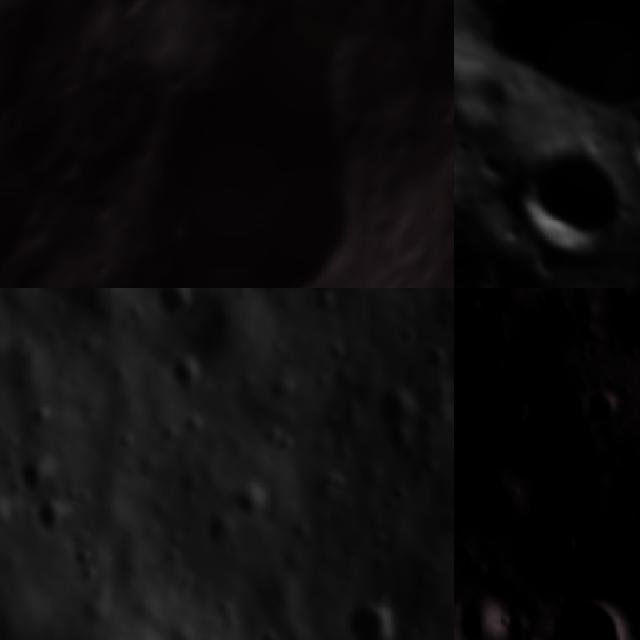crater: (74, 0, 454, 288), (489, 116, 640, 287), (0, 161, 59, 276), (21, 123, 96, 198), (533, 589, 635, 640), (459, 473, 528, 540), (530, 516, 585, 572), (337, 590, 397, 640), (88, 0, 163, 36), (579, 384, 631, 434), (454, 594, 510, 640), (226, 478, 272, 531), (373, 380, 420, 429), (454, 288, 546, 313), (544, 384, 583, 437), (100, 31, 146, 74), (164, 354, 206, 401), (32, 494, 75, 538), (616, 111, 640, 189), (15, 454, 48, 508), (285, 288, 358, 307), (147, 288, 193, 317), (253, 620, 276, 640), (252, 288, 281, 298)
